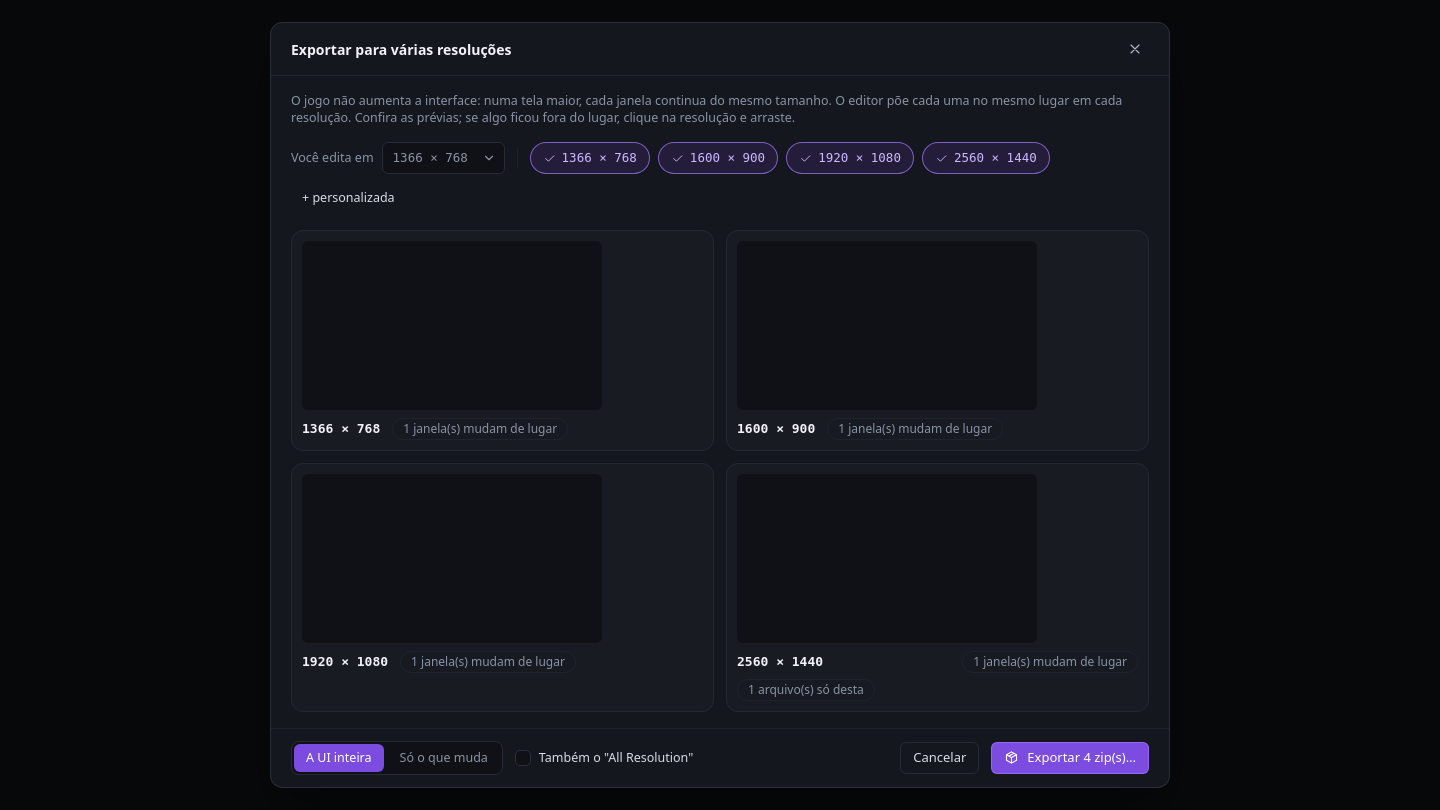
Scenario: exportar para várias resoluções › arquivos só de uma resolução: lista, tirar e usar outro
The image size is (1440, 810).
Later steps or results of the test are not shown.
Expected: the element with test id "resolutions-dialog" is shown, left=291, top=92, right=1149, bottom=712
Click the button with test id "resolution-card-2560x1440" at (938, 588), box left=726, top=463, right=1149, bottom=712
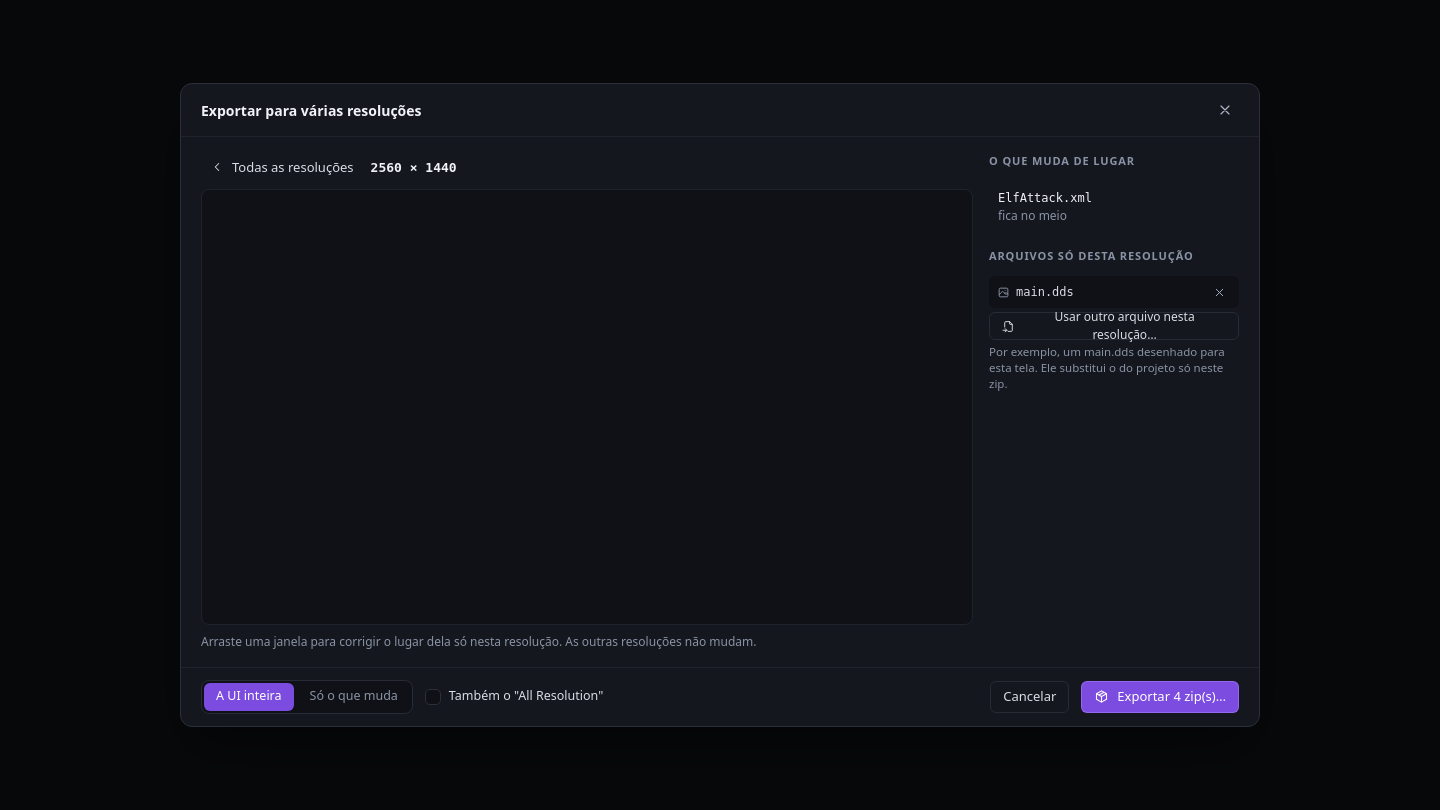
Expected: the text "main.dds" is shown, left=1016, top=283, right=1074, bottom=301
